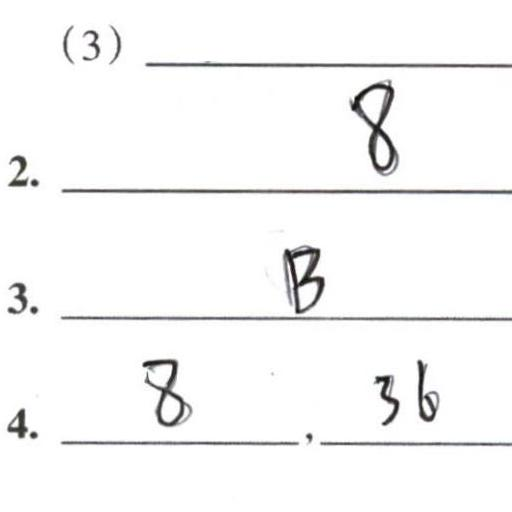ans: (340, 72, 402, 175), (367, 353, 439, 427), (279, 242, 330, 316), (140, 355, 190, 427)
